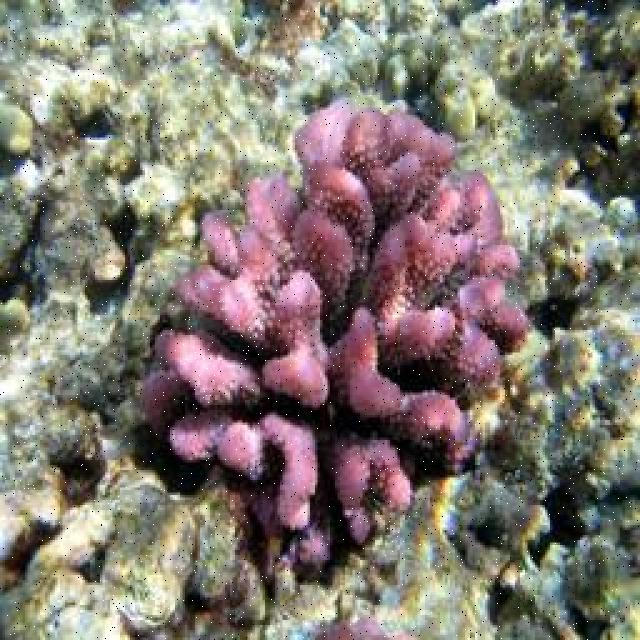reefs: (135, 102, 533, 564)
